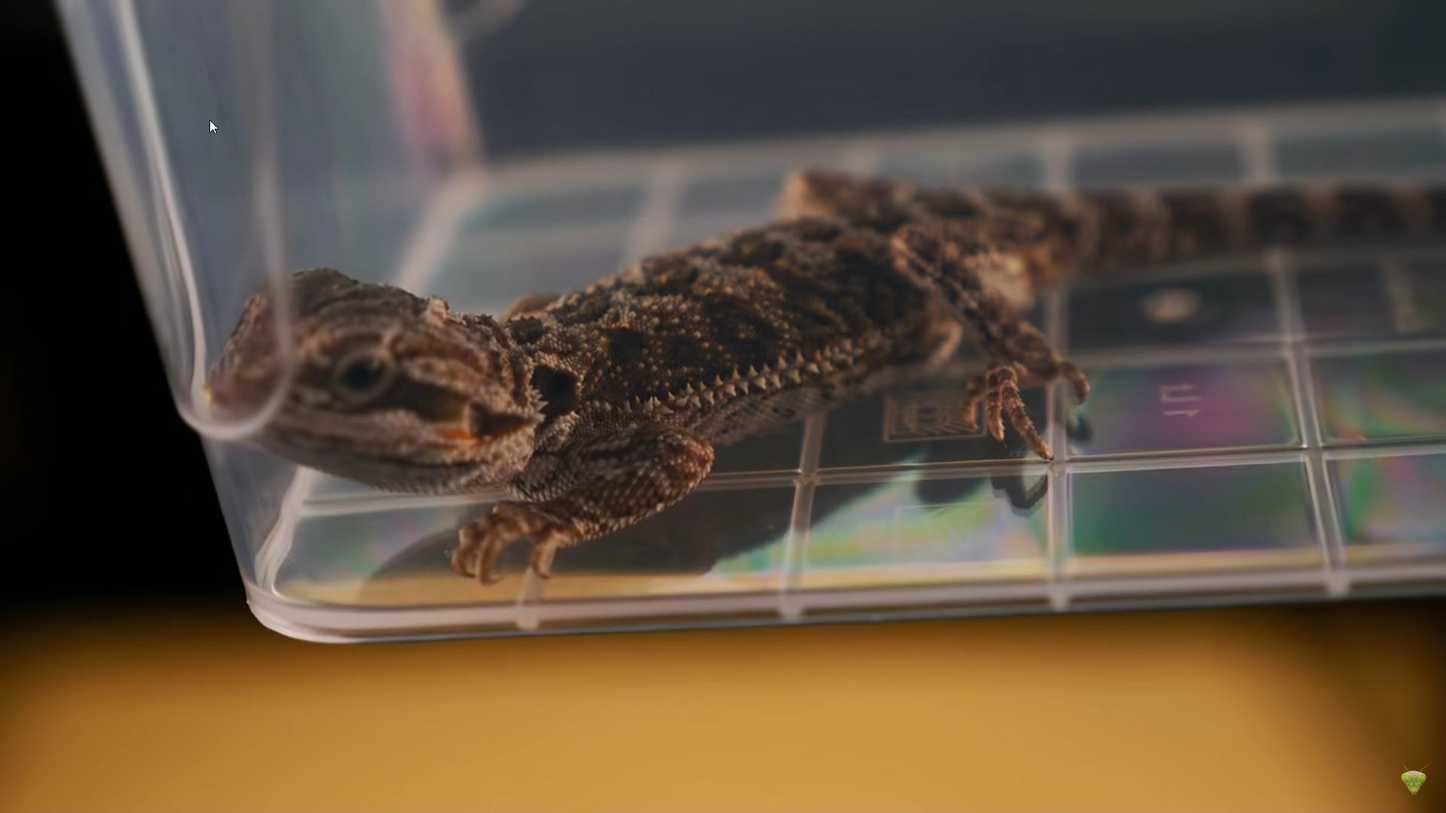lizard: (166, 155, 1441, 581)
